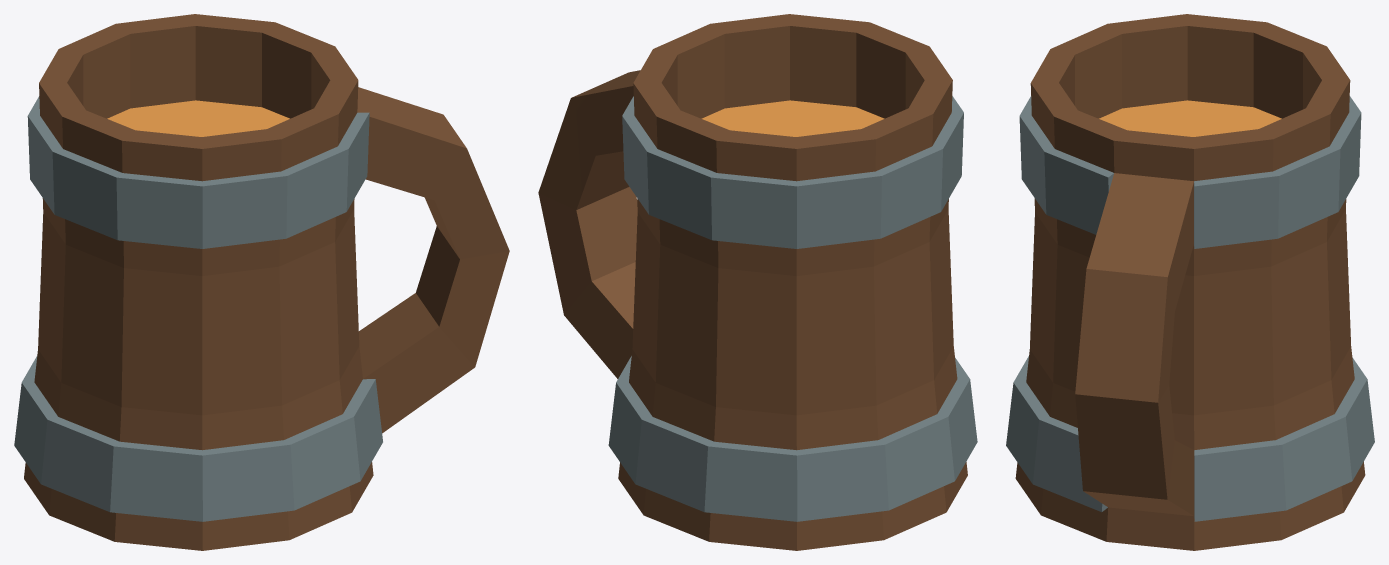
The model's file is FullCup.fbx.
3 renders of one model, left to right at view 1: azimuth 30°, elevation 25°; view 2: azimuth 150°, elevation 25°; view 3: azimuth 270°, elevation 25°, orthographic.
Visible parts, largest first — view 1: FullCup; view 2: FullCup; view 3: FullCup.
Part boxes in pixels (x1,y1,x2,y2): FullCup: [14, 14, 509, 550]; FullCup: [538, 14, 977, 550]; FullCup: [1006, 14, 1374, 550].
Bounding box in the file's own units: 27.45 × 24.09 × 20.37.
